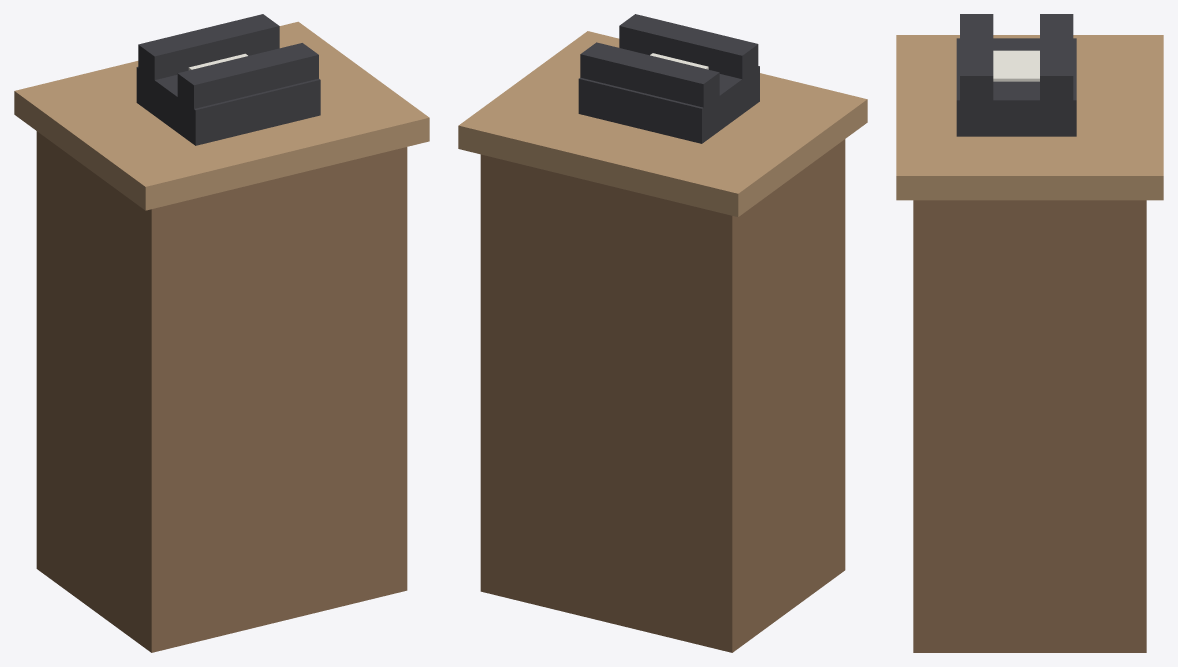
The model's file is phone.glb.
3 renders of one model, left to right at view 1: azimuth 30°, elevation 25°; view 2: azimuth 150°, elevation 25°; view 3: azimuth 270°, elevation 25°, orthographic. The views are drawn at different scales.
Visible parts, largest first — view 1: phone; view 2: phone; view 3: phone.
Boxes of the visible parts, x1,y1,x2,y2 form: phone: [14, 14, 429, 652]; phone: [458, 14, 867, 652]; phone: [896, 14, 1163, 652].
Bounding box in the file's own units: 0.5 × 0.9 × 0.4.
